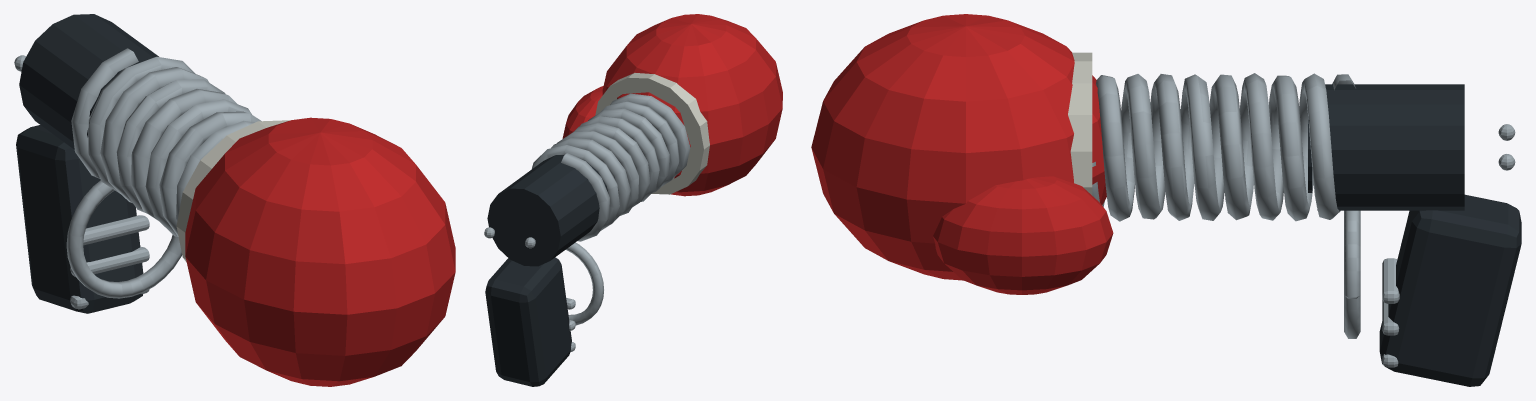
The model's file is spring-glove.glb.
3 views of the same model, side by side, from view 1: azimuth 30°, elevation 25°; view 2: azimuth 150°, elevation 25°; view 3: azimuth 270°, elevation 25° (orthographic). The views are drawn at different scales.
Visible parts, largest first — view 1: barrel; view 2: barrel; view 3: barrel.
Part boxes in pixels (x1,y1,x2,y2): barrel: (14, 14, 455, 386); barrel: (484, 14, 782, 386); barrel: (811, 14, 1521, 386).
Bounding box in the file's own units: 0.43 × 0.5489 × 1.01.
